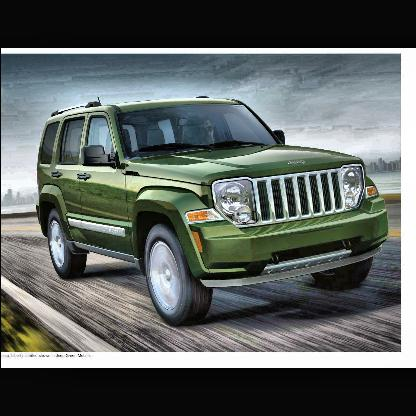Jeep Liberty SUV 2012: (31, 93, 389, 317)
